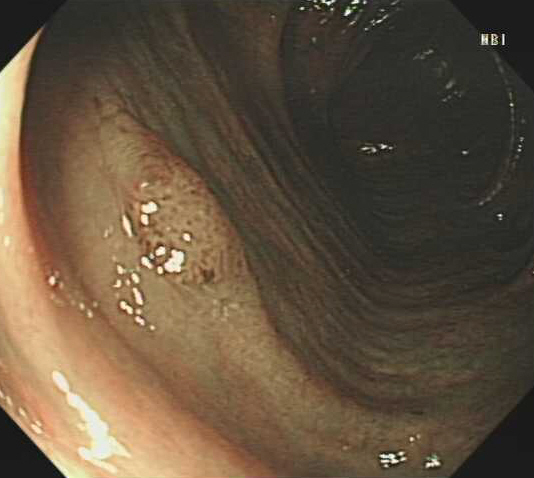others: (91, 107, 271, 325)
